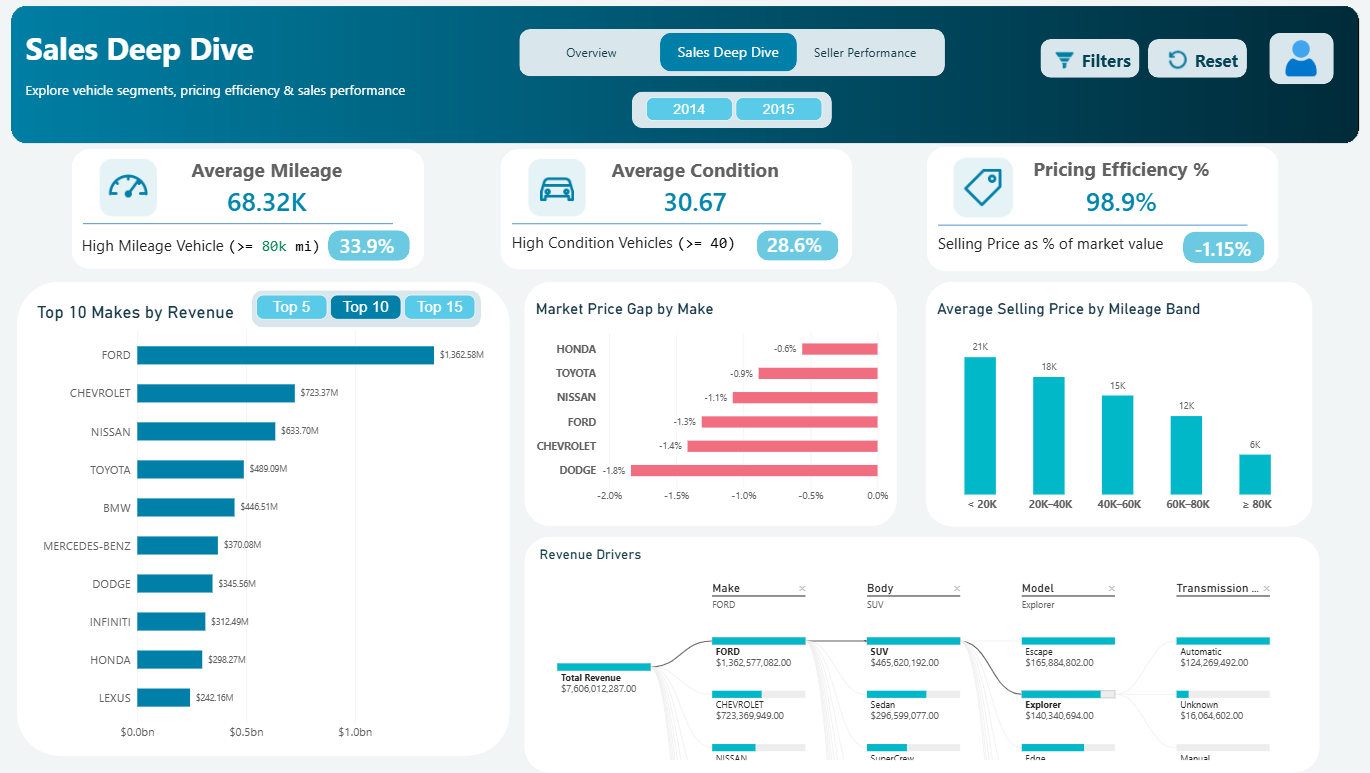

What the dashboard file says about the page in this screenshot:
{"tool":"powerbi","page":{"name":"Sales Deep Dive","canvas":[1920,1080],"ordinal":1},"visuals":[{"type":"image","box":[0,0,1920,1078],"z":0},{"type":"shape","box":[728,42,594,66],"z":0,"group":"g11"},{"type":"shape","box":[1774.3,47.1,90,71.8],"z":0,"group":"g1"},{"type":"shape","box":[884,128.9,279.4,51.4],"z":0,"group":"g10"},{"type":"shape","box":[1296,205.6,490.9,174],"z":0,"group":"g4"},{"type":"shape","box":[102.4,209.5,491.9,167.6],"z":0,"group":"g2"},{"type":"shape","box":[701.6,209.5,490.8,168],"z":0,"group":"g3"},{"type":"shape","box":[26,394,688.1,662],"z":0,"group":"g5"},{"type":"shape","box":[734,394,520.3,342],"z":0,"group":"g7"},{"type":"shape","box":[1295,394.4,540.3,342.2],"z":0,"group":"g8"},{"type":"shape","box":[354,406,320,52],"z":0,"group":"g6"},{"type":"shape","box":[734,750,1110,330],"z":0,"group":"g9"},{"type":"textbox","box":[37.6,37.6,987.1,131.5],"z":1000},{"type":"pageNavigator","box":[734,48,574,54],"z":1000,"group":"g11"},{"type":"image","box":[1774.3,58.7,88.2,50.5],"z":1000,"group":"g1"},{"type":"ChicletSlicer1448559807354","fields":{"Category":["DimDate.Year"]},"box":[886.2,120,281.6,102.8],"z":1000,"group":"g10"},{"type":"shape","box":[460.1,323.3,114.2,42.4],"z":1000,"group":"g2"},{"type":"shape","box":[1058.6,323.6,114,42.5],"z":1000,"group":"g3"},{"type":"shape","box":[1653,323.8,114,44],"z":1000,"group":"g4"},{"type":"ChicletSlicer1448559807354","fields":{"Category":["Top N Makes.Top N Label"]},"box":[342,396,342,74],"z":1000,"group":"g6"},{"type":"clusteredBarChart","title":"Market Price Gap by Make","fields":{"Category":["FactSales.make"],"Y":["AllMeasure.Pricing Gap %"]},"box":[734,404.8,524,318.6],"z":1000,"group":"g7"},{"type":"clusteredColumnChart","title":"Average Selling Price by Mileage Band","fields":{"Category":["FactSales.Mileage Band"],"Y":["AllMeasure.Avg Selling Price"]},"box":[1295,405.2,540.3,331.4],"z":1000,"group":"g8"},{"type":"clusteredBarChart","fields":{"Category":["DimMake.Make"],"Y":["AllMeasure.Total Revenue"]},"box":[38,408.3,680,647.7],"z":1000,"group":"g5"},{"type":"decompositionTreeVisual","title":"Revenue Drivers","fields":{"Analyze":["AllMeasure.Total Revenue"],"ExplainBy":["FactSales.make","FactSales.body","FactSales.model","FactSales.Transmission Category"]},"box":[740,750,1096,328],"z":1000,"group":"g9"},{"type":"group","id":"g1","title":"Group 6","box":[1756.8,33.5,122.9,93.9],"z":2000},{"type":"cardVisual","fields":{"Data":["AllMeasure.Author Tooltip Trigger"]},"box":[1756.8,33.5,122.3,95.1],"z":2000,"group":"g1"},{"type":"cardVisual","fields":{"Data":["AllMeasure.High Condition Vehicles %"]},"box":[1057.2,315.3,125.2,54.3],"z":2000,"group":"g3"},{"type":"cardVisual","fields":{"Data":["AllMeasure.High Mileage Vehicles %"]},"box":[460.1,318,127.6,53],"z":2000,"group":"g2"},{"type":"cardVisual","fields":{"Data":["AllMeasure.Price vs MMR %"]},"box":[1653.9,318.4,156.4,55],"z":2000,"group":"g4"},{"type":"group","id":"g2","title":"Group 1","box":[102.4,182.3,491.9,196.6],"z":3000},{"type":"image","box":[1330.4,221.3,87.9,83.1],"z":3000,"group":"g4"},{"type":"image","box":[136.8,224.6,88,80],"z":3000,"group":"g2"},{"type":"image","box":[736,224.7,87.9,80.2],"z":3000,"group":"g3"},{"type":"cardVisual","fields":{"Data":["AllMeasure.Pricing Efficiency %"]},"box":[1418.3,177.4,299.9,169.3],"z":4000,"group":"g4"},{"type":"cardVisual","fields":{"Data":["AllMeasure.Average Mileage"]},"box":[224.9,182.3,300.5,163],"z":4000,"group":"g2"},{"type":"group","id":"g3","title":"Group 2","box":[701.6,182.3,490.8,195.2],"z":4000},{"type":"cardVisual","fields":{"Data":["AllMeasure.Average Condition"]},"box":[823.8,182.3,299.9,163.4],"z":4000,"group":"g3"},{"type":"group","id":"g4","title":"Group 3","box":[1296,177.4,515.5,202.4],"z":5000},{"type":"shape","box":[1311.3,258.9,431.7,111.3],"z":5000,"group":"g4"},{"type":"shape","box":[117.7,260.8,432.5,107.2],"z":5000,"group":"g2"},{"type":"shape","box":[716.9,261,431.6,107.4],"z":5000,"group":"g3"},{"type":"textbox","box":[716.8,325.9,464.7,50.4],"z":6000,"group":"g3"},{"type":"textbox","box":[1311,326,442.4,54.3],"z":6000,"group":"g4"},{"type":"textbox","box":[116.5,329,461.9,49.9],"z":6000,"group":"g2"},{"type":"group","id":"g5","title":"Group 7","box":[26,394,692,662],"z":6000},{"type":"group","id":"g6","title":"Group 4","box":[342,396,342,74],"z":7000},{"type":"group","id":"g7","title":"Group 5","box":[734,394,524,342],"z":8000},{"type":"group","id":"g8","title":"Group 8","box":[1295,394.4,540.3,342.2],"z":9000},{"type":"group","id":"g9","title":"Group 9","box":[734,750,1110,330],"z":10000},{"type":"group","id":"g10","title":"Group 8","box":[884,120,284,102],"z":11000},{"type":"group","id":"g11","title":"Group 1","box":[728,42,594,66],"z":12000},{"type":"actionButton","title":"Reset","box":[1604,56,138,54],"z":16000},{"type":"actionButton","title":"Filter white","box":[1454,56,138,54],"z":18000}]}

Visuals, with their boxes in screenshot pixels (x1, y1, x2, y2), scaled from the page's 1920x1080 canvas onto the 1370x773 screenshot:
image: <box>0,0,1369,772</box>
shape: <box>519,30,943,77</box>
shape: <box>1266,34,1330,85</box>
shape: <box>631,92,830,129</box>
shape: <box>925,147,1275,272</box>
shape: <box>73,150,424,270</box>
shape: <box>501,150,851,270</box>
shape: <box>19,282,510,756</box>
shape: <box>524,282,895,527</box>
shape: <box>924,282,1310,527</box>
shape: <box>253,291,481,328</box>
shape: <box>524,537,1316,772</box>
textbox: <box>27,27,731,121</box>
pageNavigator: <box>524,34,933,73</box>
image: <box>1266,42,1329,78</box>
ChicletSlicer1448559807354 - DimDate.Year: <box>632,86,833,159</box>
shape: <box>328,231,410,262</box>
shape: <box>755,232,837,262</box>
shape: <box>1179,232,1261,263</box>
ChicletSlicer1448559807354 - Top N Makes.Top N Label: <box>244,283,488,336</box>
"Market Price Gap by Make" clusteredBarChart: <box>524,290,898,518</box>
"Average Selling Price by Mileage Band" clusteredColumnChart: <box>924,290,1310,527</box>
clusteredBarChart - DimMake.Make x AllMeasure.Total Revenue: <box>27,292,512,756</box>
"Revenue Drivers" decompositionTreeVisual: <box>528,537,1310,772</box>
"Group 6" group: <box>1254,24,1341,91</box>
cardVisual - AllMeasure.Author Tooltip Trigger: <box>1254,24,1341,92</box>
cardVisual - AllMeasure.High Condition Vehicles %: <box>754,226,844,265</box>
cardVisual - AllMeasure.High Mileage Vehicles %: <box>328,228,419,266</box>
cardVisual - AllMeasure.Price vs MMR %: <box>1180,228,1292,267</box>
"Group 1" group: <box>73,130,424,271</box>
image: <box>949,158,1012,218</box>
image: <box>98,161,160,218</box>
image: <box>525,161,588,218</box>
cardVisual - AllMeasure.Pricing Efficiency %: <box>1012,127,1226,248</box>
cardVisual - AllMeasure.Average Mileage: <box>160,130,375,247</box>
"Group 2" group: <box>501,130,851,270</box>
cardVisual - AllMeasure.Average Condition: <box>588,130,802,247</box>
"Group 3" group: <box>925,127,1293,272</box>
shape: <box>936,185,1244,265</box>
shape: <box>84,187,393,263</box>
shape: <box>512,187,820,264</box>
textbox: <box>511,233,843,269</box>
textbox: <box>935,233,1251,272</box>
textbox: <box>83,235,413,271</box>
"Group 7" group: <box>19,282,512,756</box>
"Group 4" group: <box>244,283,488,336</box>
"Group 5" group: <box>524,282,898,527</box>
"Group 8" group: <box>924,282,1310,527</box>
"Group 9" group: <box>524,537,1316,772</box>
"Group 8" group: <box>631,86,833,159</box>
"Group 1" group: <box>519,30,943,77</box>
"Reset" actionButton: <box>1145,40,1243,79</box>
"Filter white" actionButton: <box>1037,40,1136,79</box>
